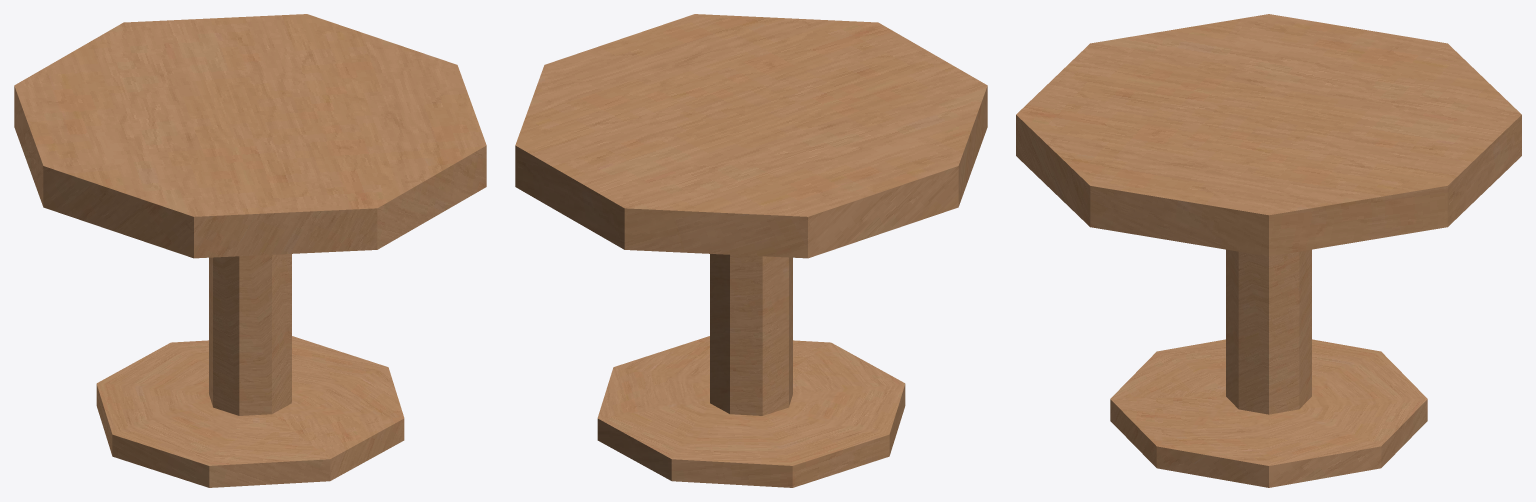
The model's file is table.glb.
The picture shows the model from 3 angles, left to right: view 1: azimuth 30°, elevation 25°; view 2: azimuth 150°, elevation 25°; view 3: azimuth 270°, elevation 25°; orthographic projection.
Parts seen in each view (by area): view 1: Cylinder; view 2: Cylinder; view 3: Cylinder.
Part boxes in pixels (box(x1,y1,x2,y2)): Cylinder: box(14, 14, 486, 487); Cylinder: box(515, 14, 987, 487); Cylinder: box(1016, 14, 1521, 487).
Size of the model in its own units: 3 by 2.13 by 3.19.
Materials: 1 (1 with a texture image).
